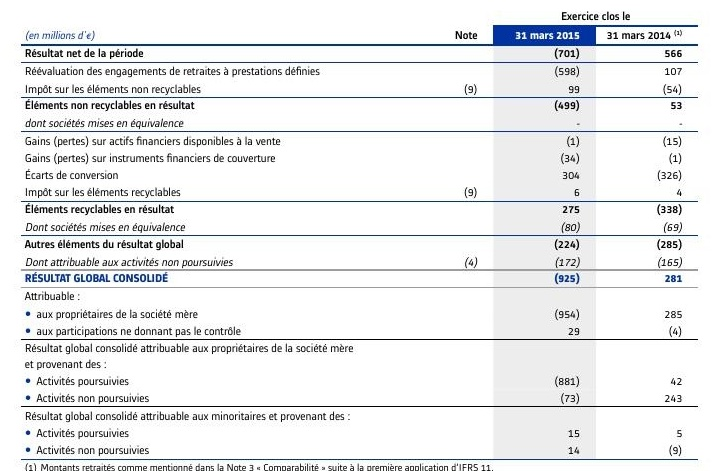table: (0, 0, 712, 471)
